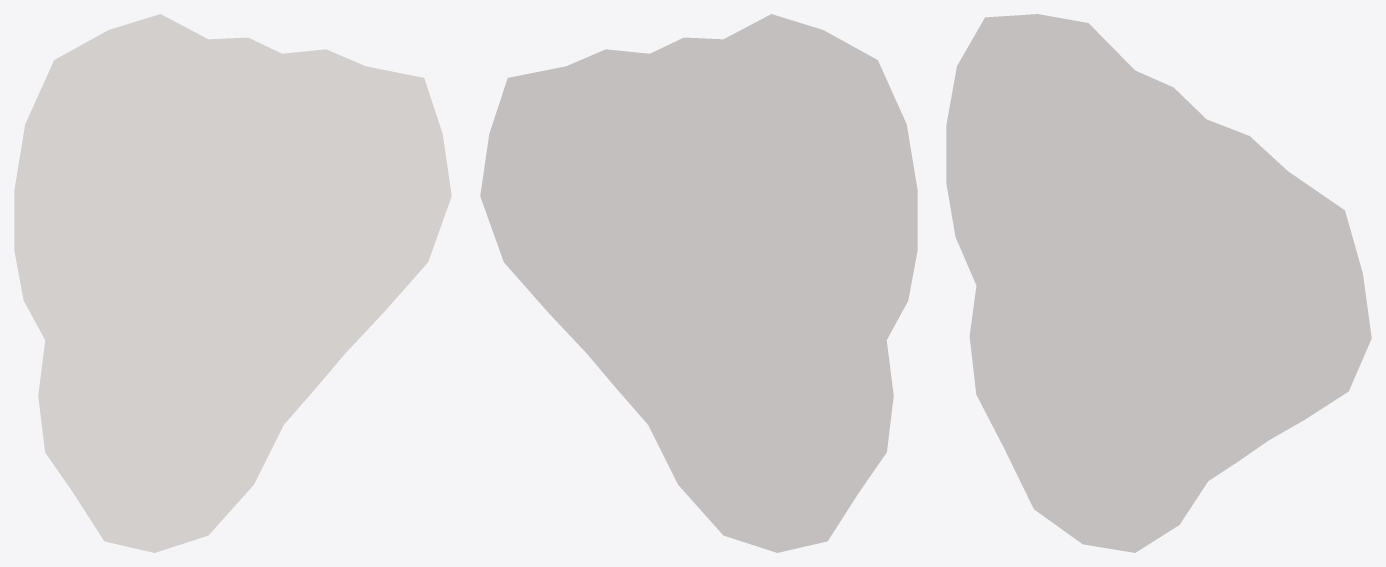
The model's file is smudge.glb.
3 views of the same model, side by side, from view 1: azimuth 30°, elevation 25°; view 2: azimuth 150°, elevation 25°; view 3: azimuth 330°, elevation 25° (orthographic). The views are drawn at different scales.
Parts seen in each view (by area): view 1: Smear; view 2: Smear; view 3: Smear.
Part boxes in pixels (x1=…): Smear: x1=14, y1=14, x2=451, y2=552; Smear: x1=480, y1=14, x2=917, y2=552; Smear: x1=946, y1=14, x2=1371, y2=552.
Size of the model in its own units: 0.2241 by 0.2631 by 0.
